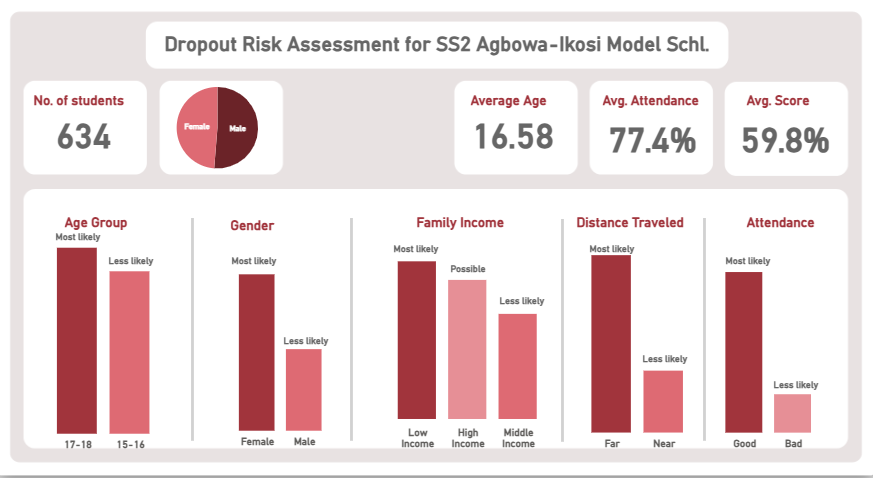

The dashboard page shown, as its layout file describes it:
{"tool":"powerbi","page":{"name":"Page 1","canvas":[1280,720],"ordinal":0},"visuals":[{"type":"card","fields":{"Values":["CountNonNull(Table1.Student Number)"]},"box":[79.1,164.5,123.6,87.3],"z":0},{"type":"pieChart","fields":{"Y":["CountNonNull(Table1.Student Number)"],"Category":["Table1.Gender"]},"box":[201.8,120,259.1,163.6],"z":1000},{"type":"card","fields":{"Values":["Avg(Table1.Age)"]},"box":[685,167.5,130,82.5],"z":2000},{"type":"card","fields":{"Values":["Avg(Table1.Overall Performance)"]},"box":[1065.7,182.9,138.6,62.9],"z":3000},{"type":"card","fields":{"Values":["Avg(Table1.Overall Attendance)"]},"box":[878.6,177.1,137.1,74.3],"z":4000},{"type":"columnChart","fields":{"Category":["Table1.Age Group"],"Y":["Sum(Table1.Dropout Risk Potential)"]},"box":[31.4,324.3,278.6,341.4],"z":5000},{"type":"columnChart","fields":{"Category":["Table1.Gender"],"Y":["Sum(Table1.Dropout Risk Potential)"]},"box":[295.7,322.9,250,338.6],"z":6000},{"type":"columnChart","fields":{"Category":["Table1.Income Class"],"Y":["Min(Table1.Dropout Risk Potential)"]},"box":[542.9,310,277.1,355.7],"z":7000},{"type":"columnChart","fields":{"Category":["Table1.Distance"],"Y":["Avg(Table1.Dropout Risk Potential)"]},"box":[790,352.9,275.7,311.4],"z":8000},{"type":"columnChart","fields":{"Category":["Table1.Attendance"],"Y":["Sum(Table1.Dropout Risk Potential)"]},"box":[984.3,337.1,258.6,327.1],"z":9000},{"type":"textbox","box":[65.5,147.3,150,34.5],"z":10000},{"type":"textbox","box":[684.3,147.1,151.4,34.3],"z":11000},{"type":"textbox","box":[871.4,147.1,150,34.3],"z":12000},{"type":"textbox","box":[1075.7,147.1,150,34.3],"z":13000},{"type":"textbox","box":[95.7,342.9,150,34.3],"z":14000},{"type":"textbox","box":[171.4,377.1,150,34.3],"z":15000},{"type":"textbox","box":[345.7,377.1,150,34.3],"z":16000},{"type":"textbox","box":[575.7,360,150,34.3],"z":17000},{"type":"textbox","box":[852.9,360,150,34.3],"z":18000},{"type":"textbox","box":[1045.7,377.1,150,34.3],"z":19000},{"type":"textbox","box":[420,490,150,34.3],"z":20000},{"type":"textbox","box":[725.7,434.3,150,34.3],"z":21000},{"type":"textbox","box":[928.6,515.7,150,34.3],"z":22000},{"type":"textbox","box":[1114.3,552.9,150,34.3],"z":23000},{"type":"textbox","box":[655.7,388.6,150,34.3],"z":24000},{"type":"textbox","box":[251.4,61.4,787.1,47.1],"z":25000},{"type":"textbox","box":[108.6,320,150,34.3],"z":26000},{"type":"textbox","box":[344.3,324.3,150,34.3],"z":27000},{"type":"textbox","box":[608.6,320,150,34.3],"z":28000},{"type":"textbox","box":[834.3,320,187.1,34.3],"z":29000},{"type":"textbox","box":[1075.7,320,187.1,34.3],"z":30000},{"type":"shape","box":[207.1,330,177.1,315.7],"z":31000},{"type":"shape","box":[432.9,330,177.1,315.7],"z":32000},{"type":"shape","box":[731.4,331.4,177.1,315.7],"z":33000},{"type":"shape","box":[932.9,330,177.1,315.7],"z":34000}]}

Visuals, with their boxes in screenshot pixels (x1, y1, x2, y2), scaled from the page's 1280x720 canvas onto the 873x478 screenshot:
card - CountNonNull(Table1.Student Number): {"x1": 54, "y1": 109, "x2": 138, "y2": 167}
pieChart - CountNonNull(Table1.Student Number) x Table1.Gender: {"x1": 138, "y1": 80, "x2": 314, "y2": 188}
card - Avg(Table1.Age): {"x1": 467, "y1": 111, "x2": 556, "y2": 166}
card - Avg(Table1.Overall Performance): {"x1": 727, "y1": 121, "x2": 821, "y2": 163}
card - Avg(Table1.Overall Attendance): {"x1": 599, "y1": 118, "x2": 693, "y2": 167}
columnChart - Table1.Age Group x Sum(Table1.Dropout Risk Potential): {"x1": 21, "y1": 215, "x2": 211, "y2": 442}
columnChart - Table1.Gender x Sum(Table1.Dropout Risk Potential): {"x1": 202, "y1": 214, "x2": 372, "y2": 439}
columnChart - Table1.Income Class x Min(Table1.Dropout Risk Potential): {"x1": 370, "y1": 206, "x2": 559, "y2": 442}
columnChart - Table1.Distance x Avg(Table1.Dropout Risk Potential): {"x1": 539, "y1": 234, "x2": 727, "y2": 441}
columnChart - Table1.Attendance x Sum(Table1.Dropout Risk Potential): {"x1": 671, "y1": 224, "x2": 848, "y2": 441}
textbox: {"x1": 45, "y1": 98, "x2": 147, "y2": 121}
textbox: {"x1": 467, "y1": 98, "x2": 570, "y2": 120}
textbox: {"x1": 594, "y1": 98, "x2": 697, "y2": 120}
textbox: {"x1": 734, "y1": 98, "x2": 836, "y2": 120}
textbox: {"x1": 65, "y1": 228, "x2": 168, "y2": 250}
textbox: {"x1": 117, "y1": 250, "x2": 219, "y2": 273}
textbox: {"x1": 236, "y1": 250, "x2": 338, "y2": 273}
textbox: {"x1": 393, "y1": 239, "x2": 495, "y2": 262}
textbox: {"x1": 582, "y1": 239, "x2": 684, "y2": 262}
textbox: {"x1": 713, "y1": 250, "x2": 816, "y2": 273}
textbox: {"x1": 286, "y1": 325, "x2": 389, "y2": 348}
textbox: {"x1": 495, "y1": 288, "x2": 597, "y2": 311}
textbox: {"x1": 633, "y1": 342, "x2": 736, "y2": 365}
textbox: {"x1": 760, "y1": 367, "x2": 862, "y2": 390}
textbox: {"x1": 447, "y1": 258, "x2": 550, "y2": 281}
textbox: {"x1": 171, "y1": 41, "x2": 708, "y2": 72}
textbox: {"x1": 74, "y1": 212, "x2": 176, "y2": 235}
textbox: {"x1": 235, "y1": 215, "x2": 337, "y2": 238}
textbox: {"x1": 415, "y1": 212, "x2": 517, "y2": 235}
textbox: {"x1": 569, "y1": 212, "x2": 697, "y2": 235}
textbox: {"x1": 734, "y1": 212, "x2": 861, "y2": 235}
shape: {"x1": 141, "y1": 219, "x2": 262, "y2": 429}
shape: {"x1": 295, "y1": 219, "x2": 416, "y2": 429}
shape: {"x1": 499, "y1": 220, "x2": 620, "y2": 430}
shape: {"x1": 636, "y1": 219, "x2": 757, "y2": 429}
